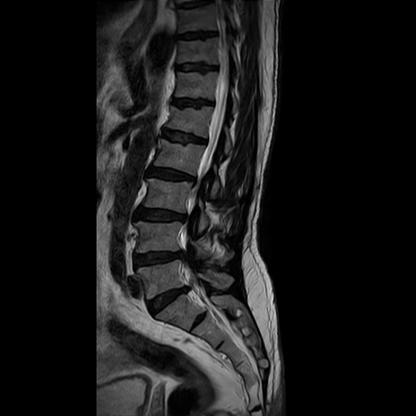Annular Disc Relaxationrotation: (162, 128, 209, 149), (147, 166, 195, 186)
Disc Bulgerotation: (146, 289, 193, 312), (137, 248, 183, 271)
